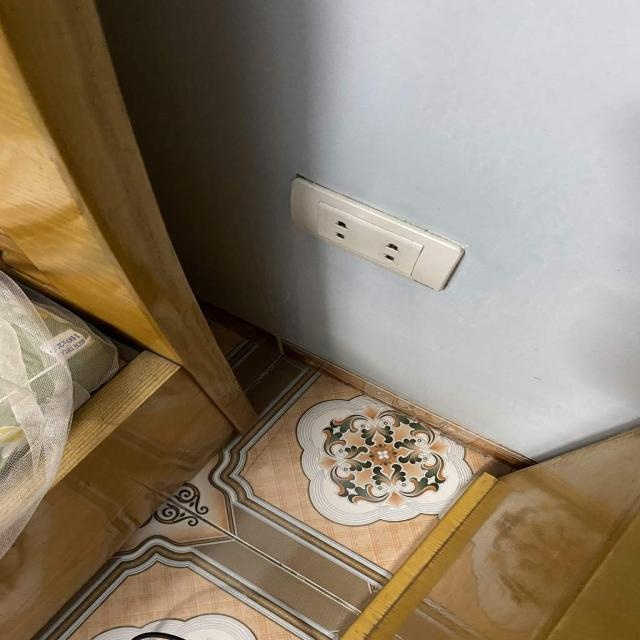outlet: (289, 175, 465, 292)
